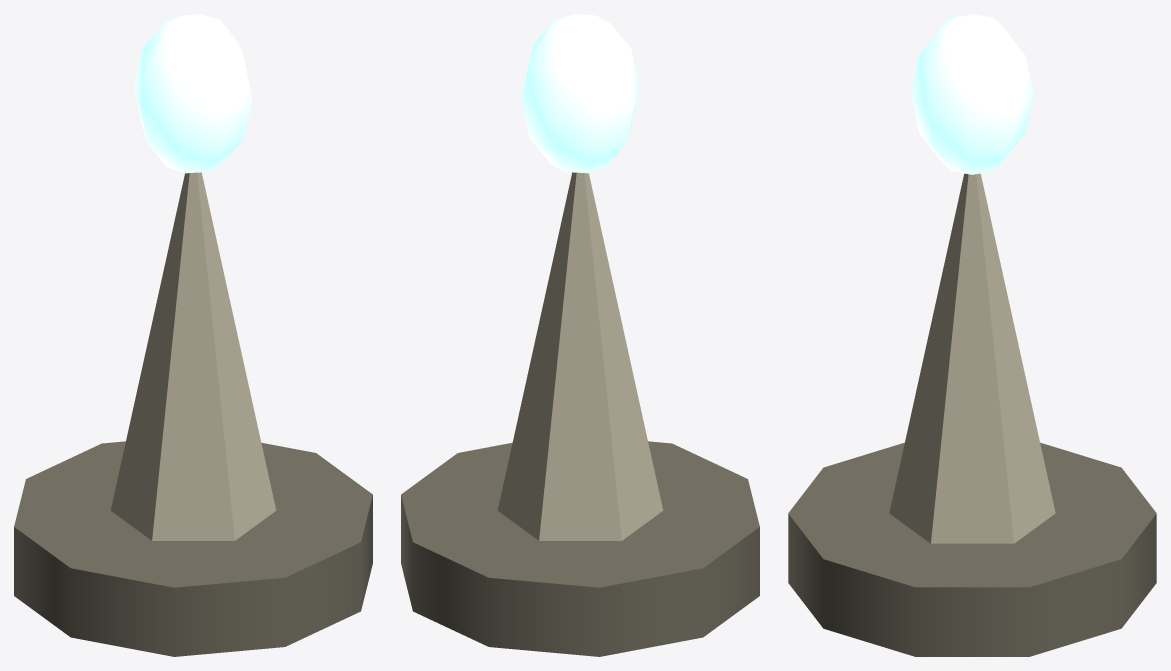
Rendered from memory_stone.glb.
3 views of the same model, side by side, from view 1: azimuth 30°, elevation 25°; view 2: azimuth 150°, elevation 25°; view 3: azimuth 270°, elevation 25° (orthographic).
Visible parts, largest first — view 1: MemoryStone, Glow; view 2: MemoryStone, Glow; view 3: MemoryStone, Glow.
Part boxes in pixels (x1=…): MemoryStone: x1=14, y1=172, x2=372, y2=656; Glow: x1=134, y1=14, x2=252, y2=173; MemoryStone: x1=401, y1=172, x2=759, y2=656; Glow: x1=521, y1=14, x2=639, y2=173; MemoryStone: x1=788, y1=173, x2=1156, y2=656; Glow: x1=911, y1=14, x2=1033, y2=174.
Size of what is drawn, in the model's own units: 1.14 by 2.03 by 1.2.
